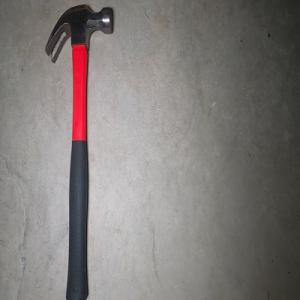Hammer: (44, 3, 114, 300)
